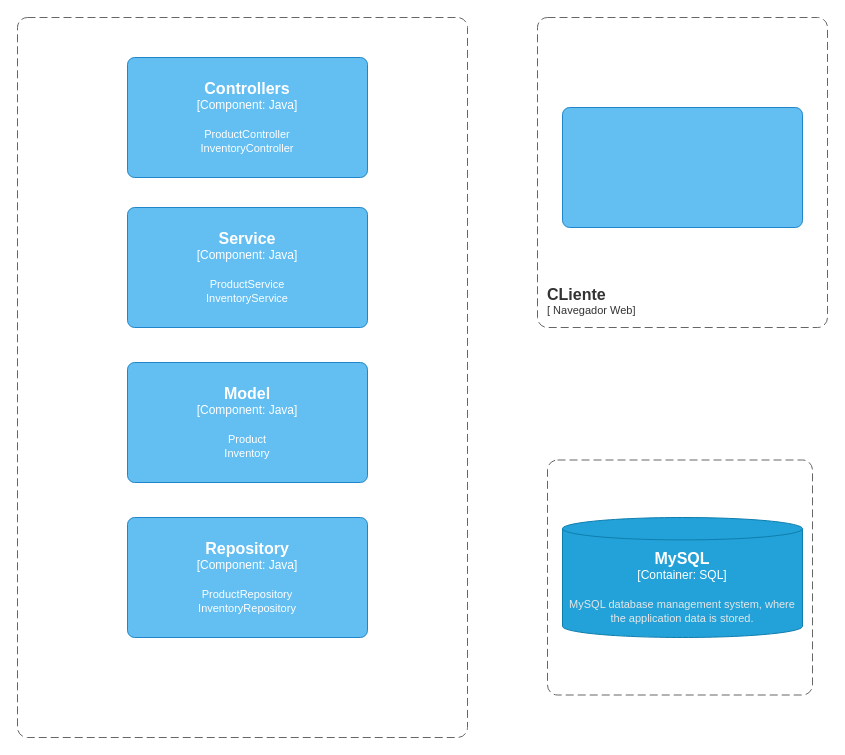
Some shapes in this 845 by 755 pixel diagram are drawn without their labels. The box of each missing label's shape, as (x1, y1, x2, y2) in pixels:
Container web [Spring boot app]: (16, 16, 468, 738)
Contenedor de BD [MySQL]: (546, 459, 812, 695)
View [Component: HTML] ProductView InventoryView: (562, 106, 802, 228)
